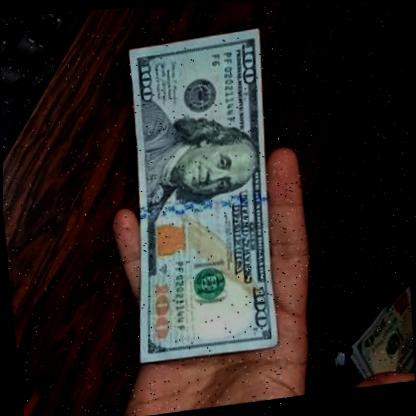one_hundred-front: (111, 27, 300, 380)
